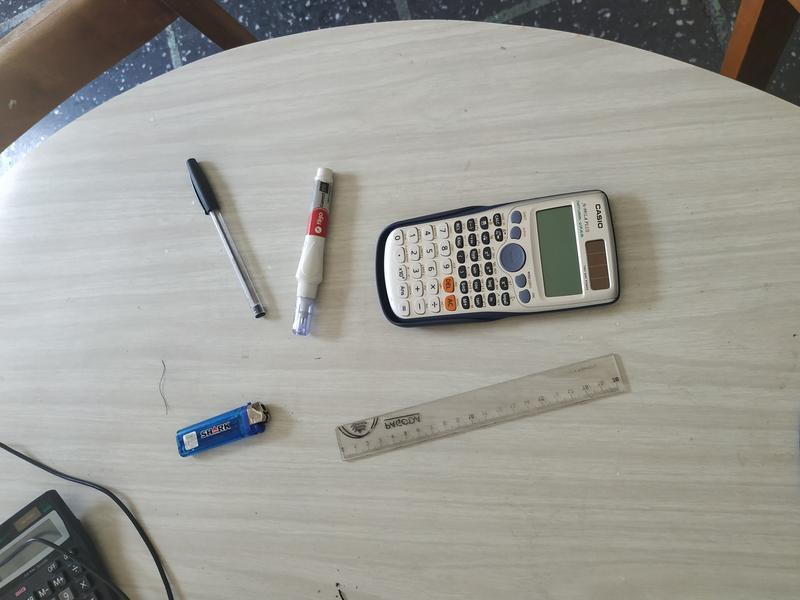calculadora: (372, 188, 625, 328)
corrector: (285, 157, 340, 341)
encendedor: (169, 395, 275, 470)
lapicera: (180, 150, 273, 323)
regla: (335, 347, 630, 481)
